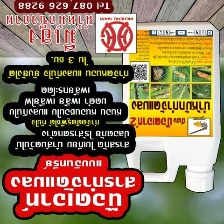insecticide: (119, 19, 223, 196)
